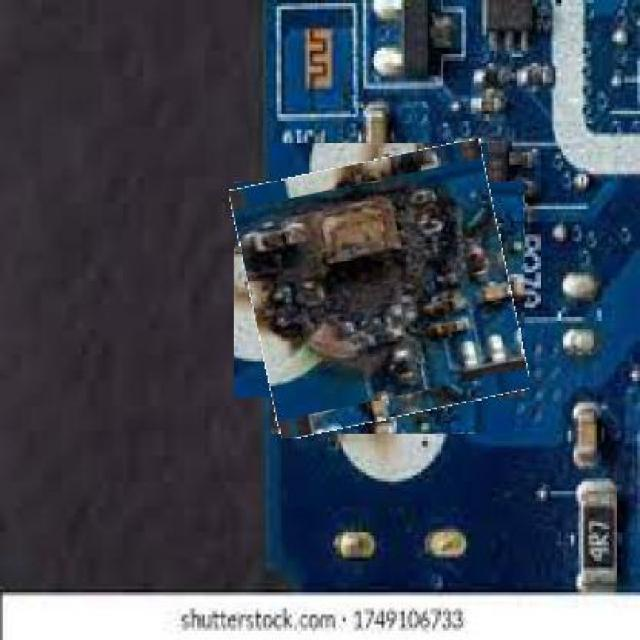Burn: (242, 150, 520, 428)
